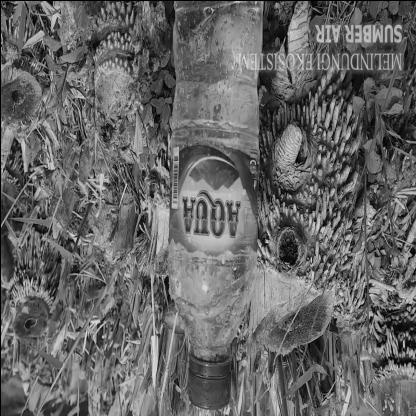plastic_bottles: (165, 0, 263, 412)
